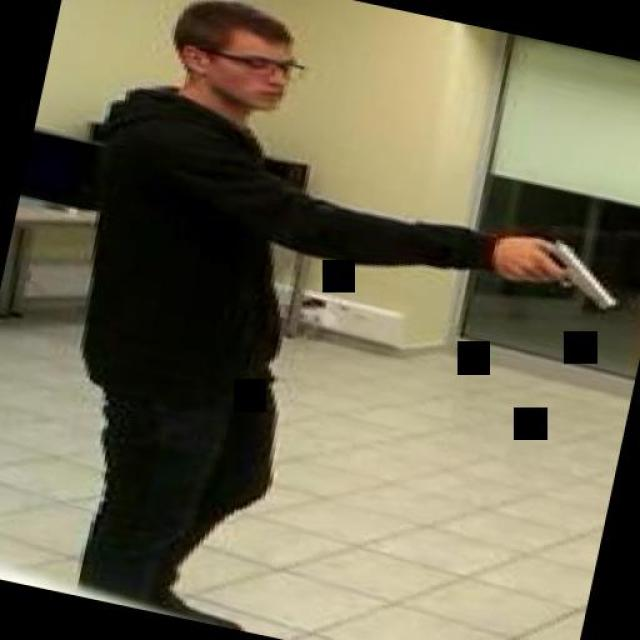gun: (498, 224, 626, 311)
